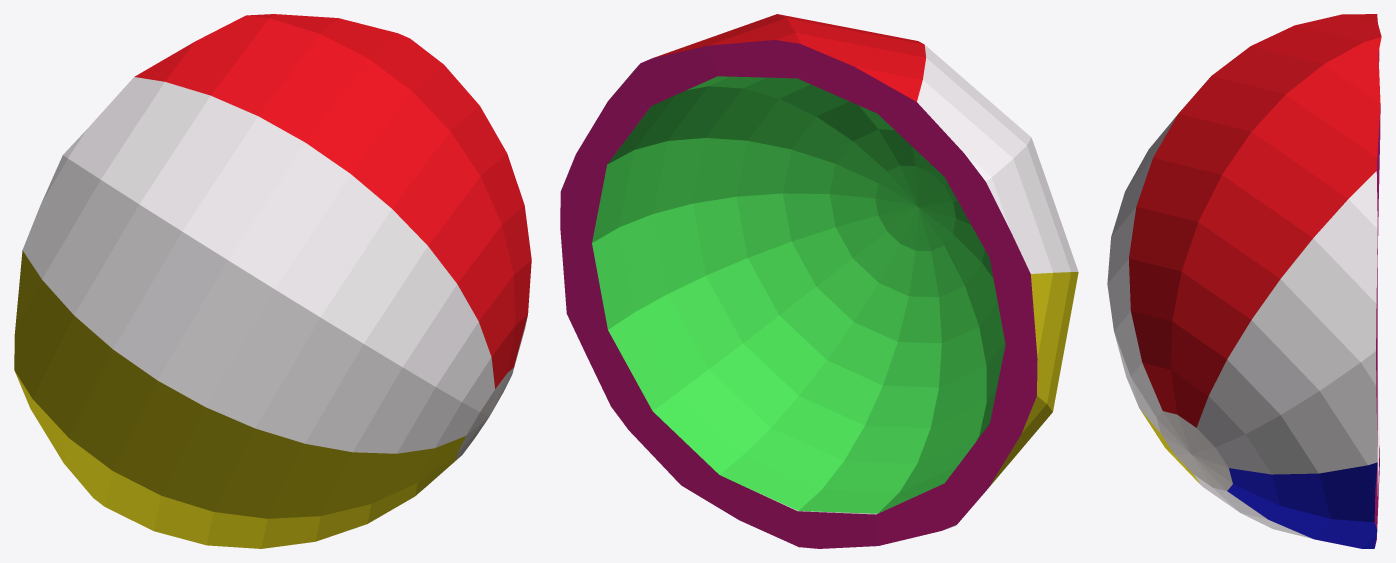
The model's file is seaball2.fbx.
3 views of the same model, side by side, from view 1: azimuth 30°, elevation 25°; view 2: azimuth 150°, elevation 25°; view 3: azimuth 270°, elevation 25° (orthographic). The views are drawn at different scales.
Parts seen in each view (by area): view 1: Sphere; view 2: Sphere; view 3: Sphere.
Boxes of the visible parts, x1,y1,x2,y2 form: Sphere: (14, 14, 531, 548); Sphere: (560, 14, 1078, 548); Sphere: (1107, 14, 1381, 548).
Size of the model in its own units: 197 by 199 by 102.
